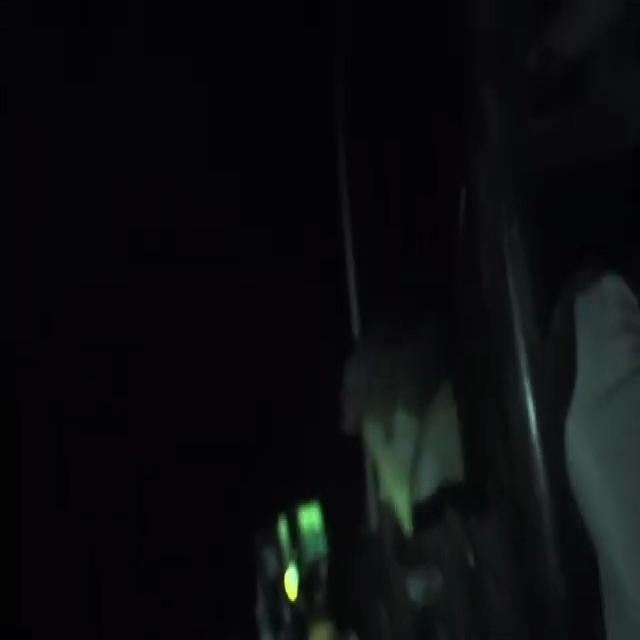device: (222, 410, 376, 640)
